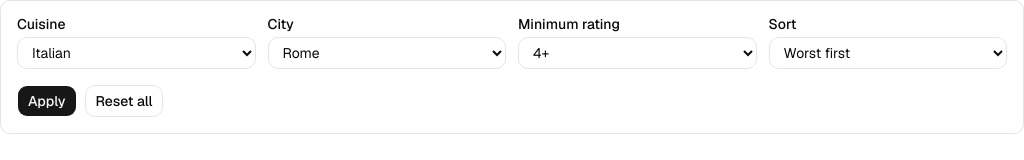
Scenario: RestaurantFilters › Reset all restores defaults, clears storage, navigates to /restaurants, and suppresses the next clean restore
Click the button "Reset all": [124, 101] box [84,85,164,117]
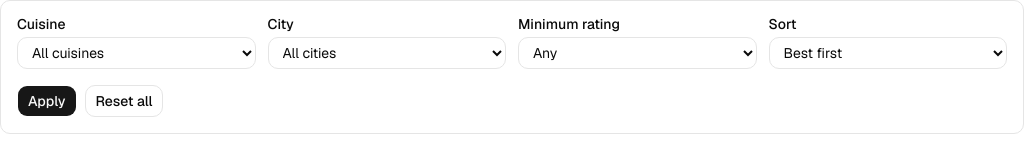
Result: the dropdown labelled "Cuisine" shows "All cuisines" at [17,37,256,69]
Result: the dropdown labelled "City" shows "All cities" at [268,37,506,69]
Result: the dropdown labelled "Minimum rating" shows "Any" at [518,37,756,69]
